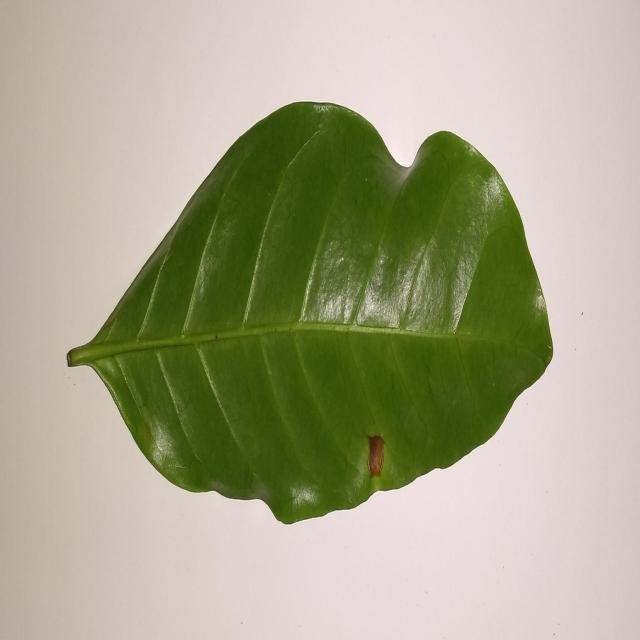phoma: (368, 435, 384, 479)
